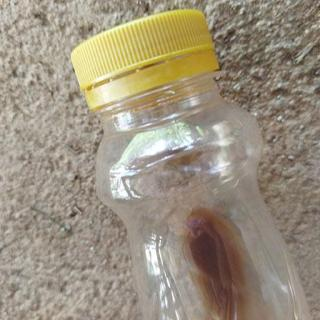Plastic-bottle: (69, 8, 314, 320)
